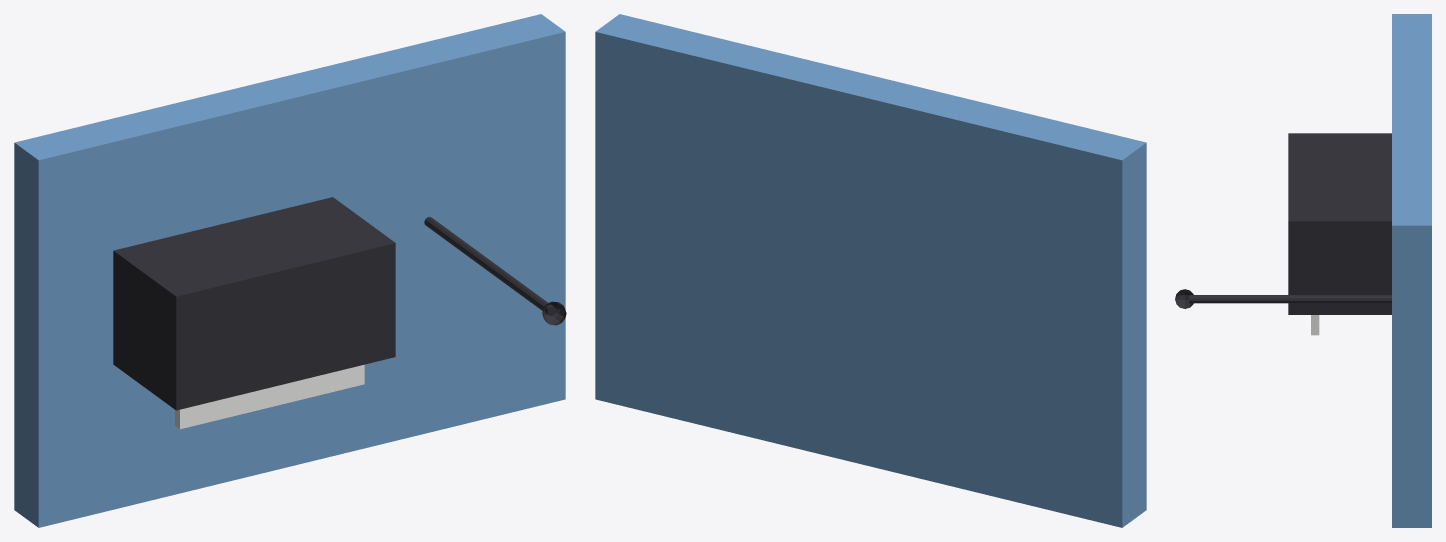
File: musicians_stage.glb
3 views of the same model, side by side, from view 1: azimuth 30°, elevation 25°; view 2: azimuth 150°, elevation 25°; view 3: azimuth 270°, elevation 25° (orthographic). The views are drawn at different scales.
Parts seen in each view (by area): view 1: stage, piano_body, keyboard, mic_stand; view 2: stage; view 3: stage, piano_body, mic_stand.
Part boxes in pixels (bbox=[...]): stage: bbox=[14, 14, 565, 527]; piano_body: bbox=[113, 197, 395, 410]; keyboard: bbox=[175, 364, 364, 429]; mic_stand: bbox=[424, 217, 556, 316]; stage: bbox=[595, 14, 1146, 527]; stage: bbox=[1392, 14, 1431, 527]; piano_body: bbox=[1288, 133, 1391, 314]; mic_stand: bbox=[1189, 295, 1391, 303].
Size of the model in its own units: 3 by 2 by 1.54.
